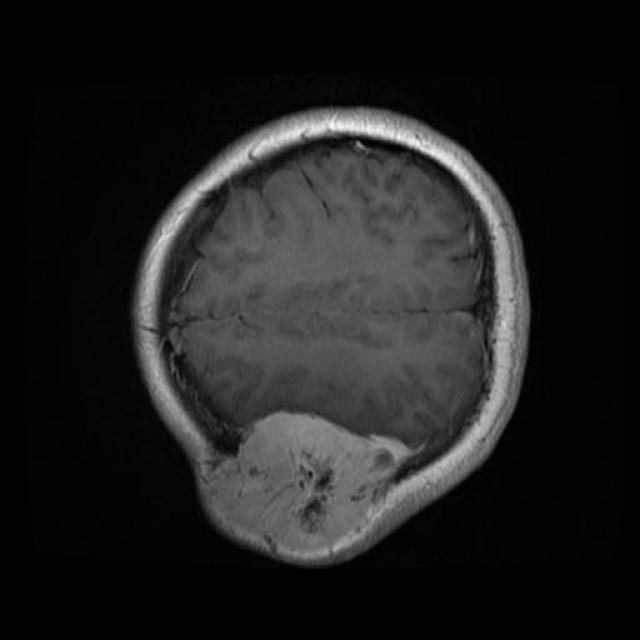Meningioma: (206, 413, 407, 557)
